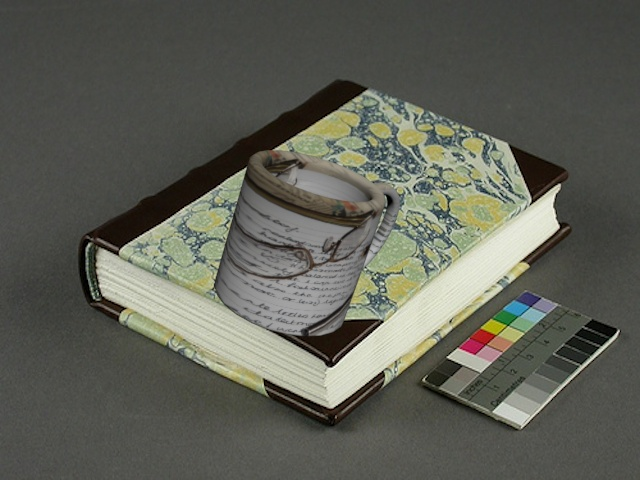mug: (209, 144, 402, 344)
